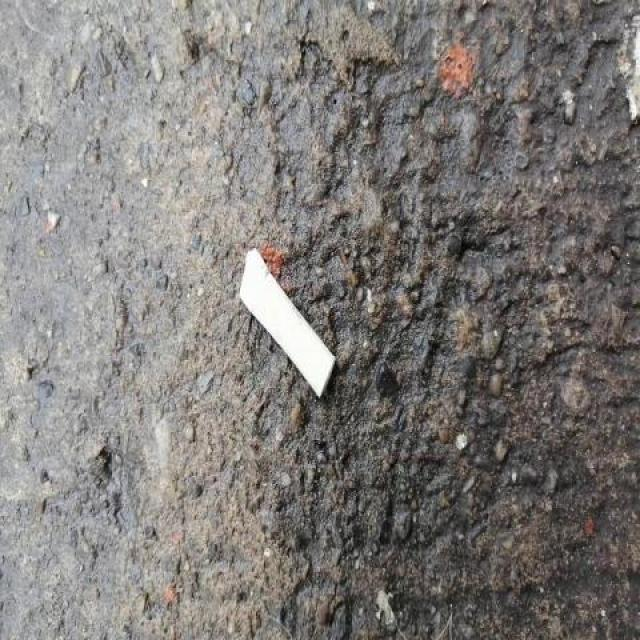non-organic waste: (233, 241, 339, 402)
